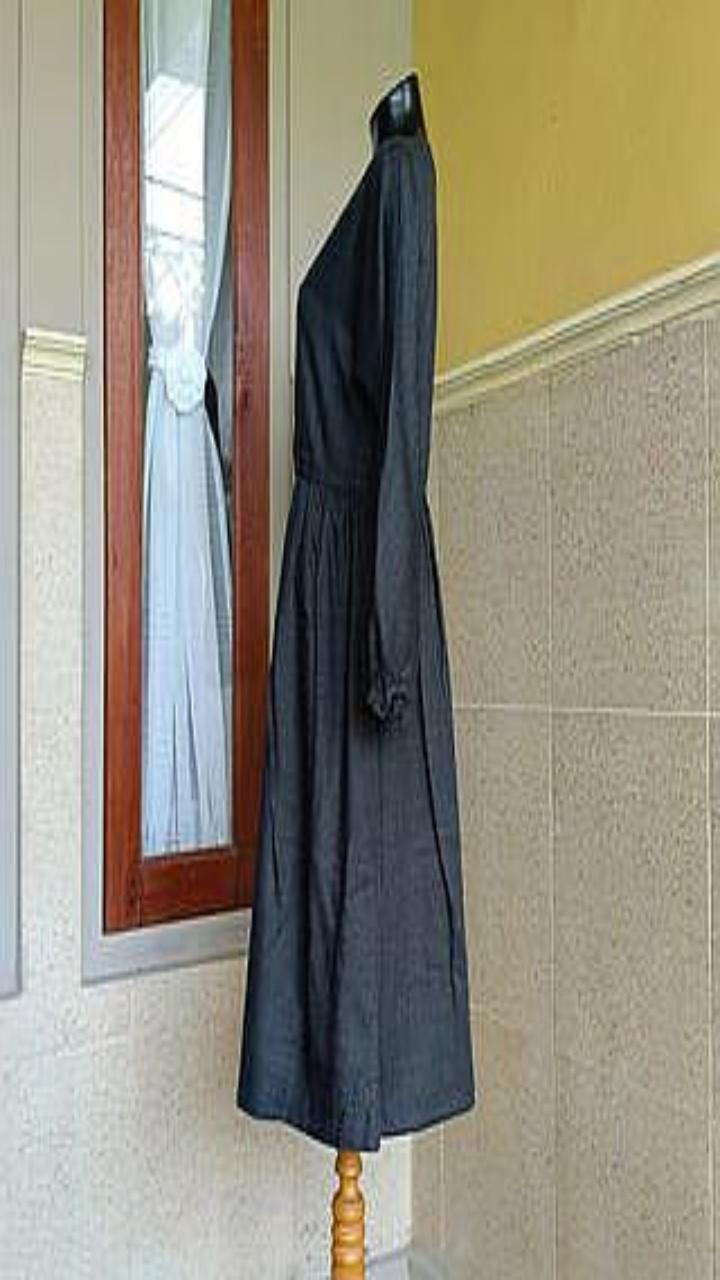Dresses: (237, 132, 474, 1150)
